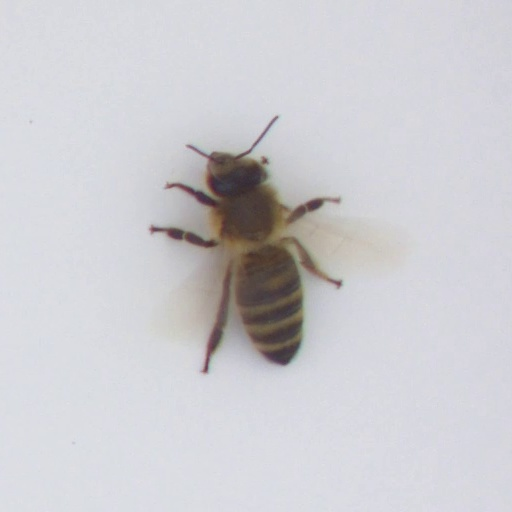Bee: (187, 132, 327, 376)
Thorax: (215, 188, 280, 243)
